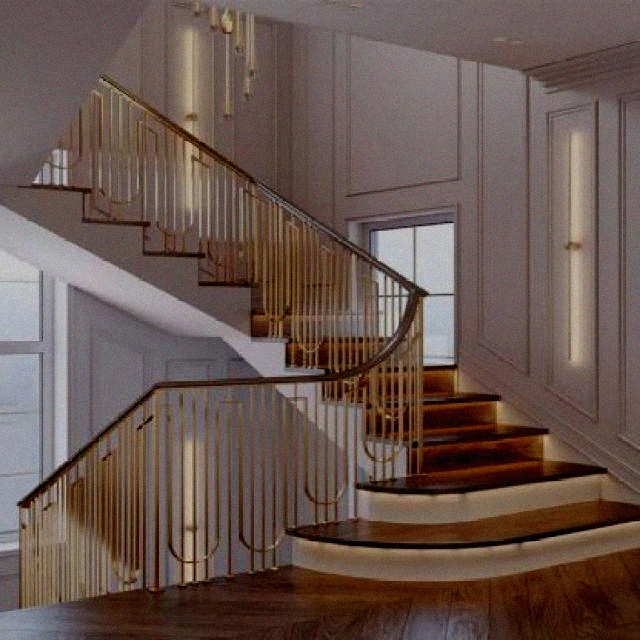stair: (107, 178, 635, 576)
